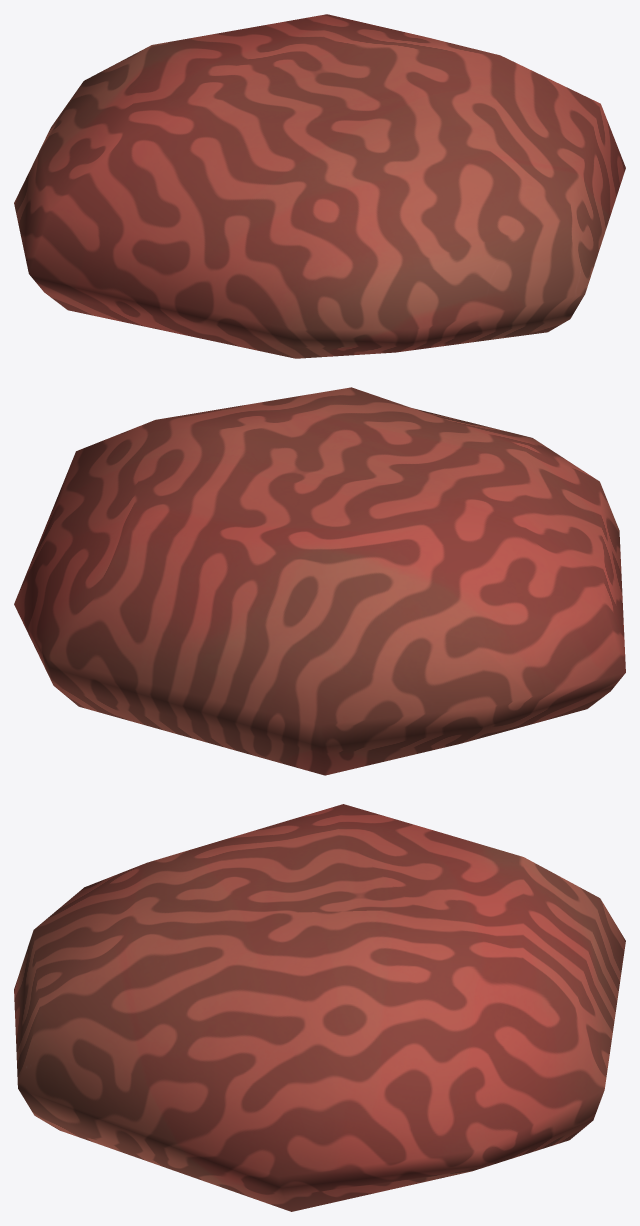
Rendered from S_Coral_03.fbx.
3 renders of one model, top to bottom at view 1: azimuth 30°, elevation 25°; view 2: azimuth 150°, elevation 25°; view 3: azimuth 270°, elevation 25°, orthographic. The views are drawn at different scales.
Visible parts, largest first — view 1: Map_Blocking:Coral_Brain; view 2: Map_Blocking:Coral_Brain; view 3: Map_Blocking:Coral_Brain.
Boxes of the visible parts, left/top/right/bottom form: Map_Blocking:Coral_Brain: left=14, top=14, right=625, bottom=358; Map_Blocking:Coral_Brain: left=14, top=387, right=625, bottom=775; Map_Blocking:Coral_Brain: left=14, top=804, right=625, bottom=1211.
Size of the model in its own units: 195 by 66.58 by 171.
